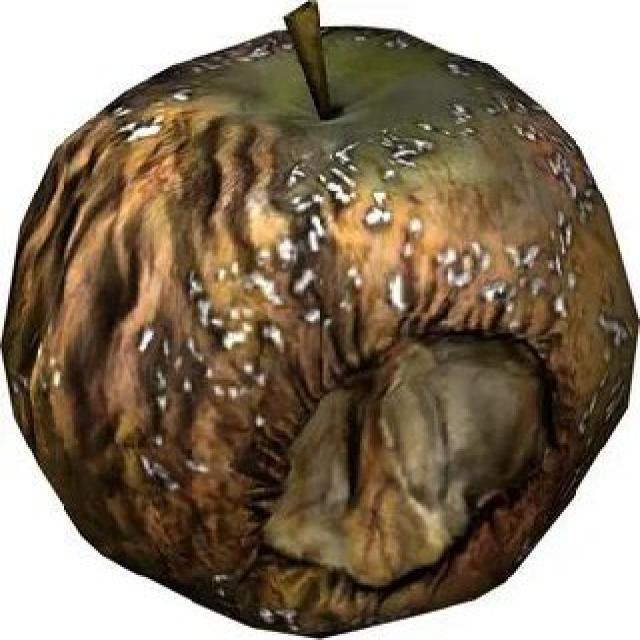Rotten: (36, 31, 640, 640)
